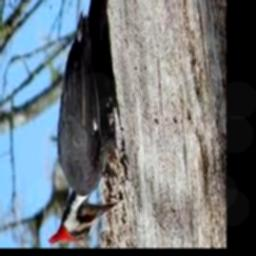Woodpecker: (48, 13, 120, 244)
